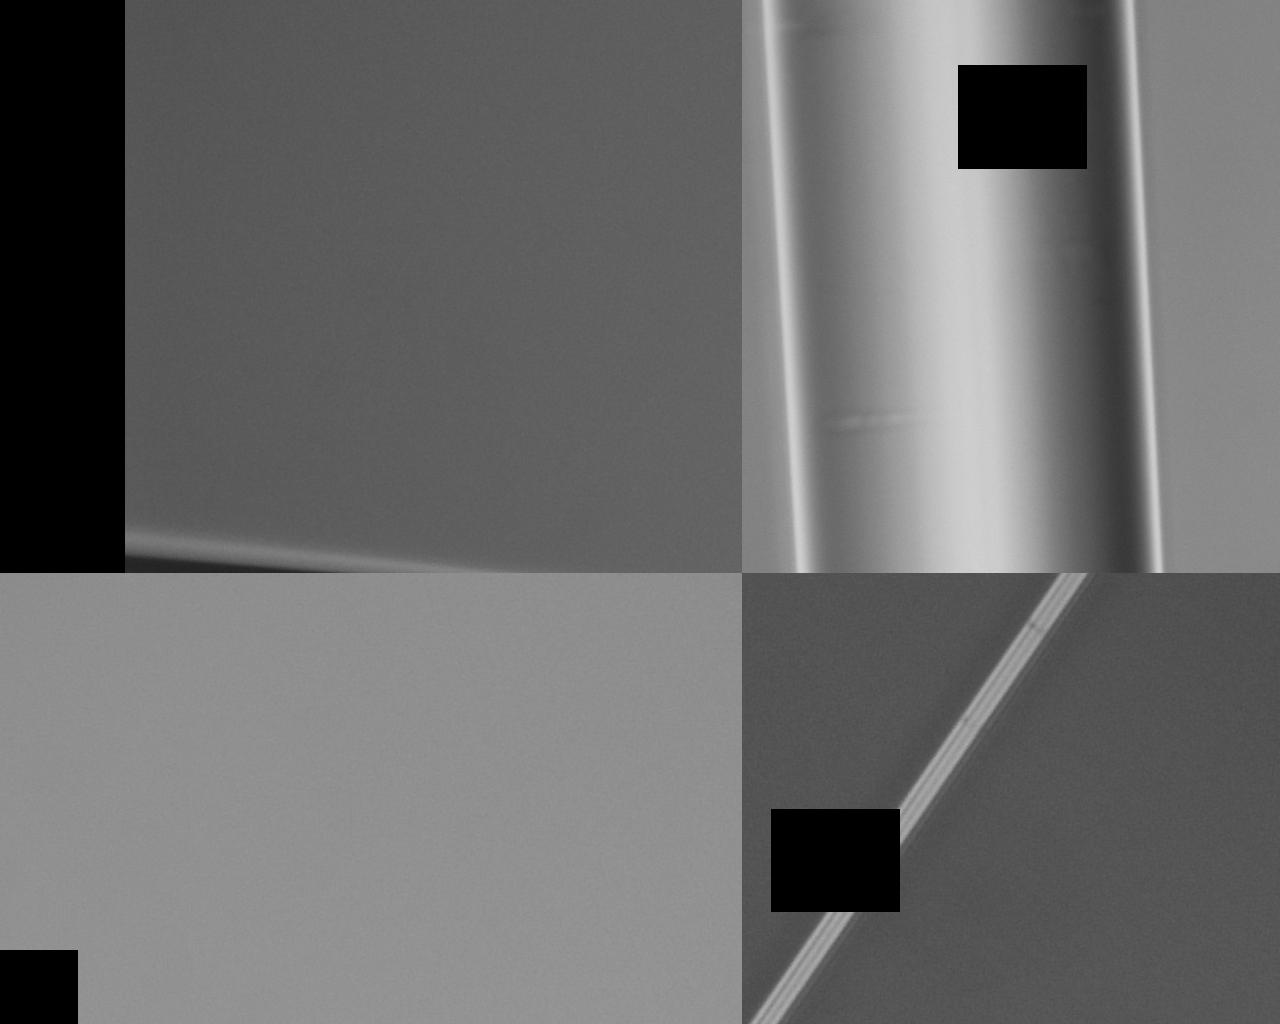fiber: (338, 0, 627, 604), (816, 604, 1280, 781), (15, 604, 156, 1024), (957, 28, 1280, 190)
